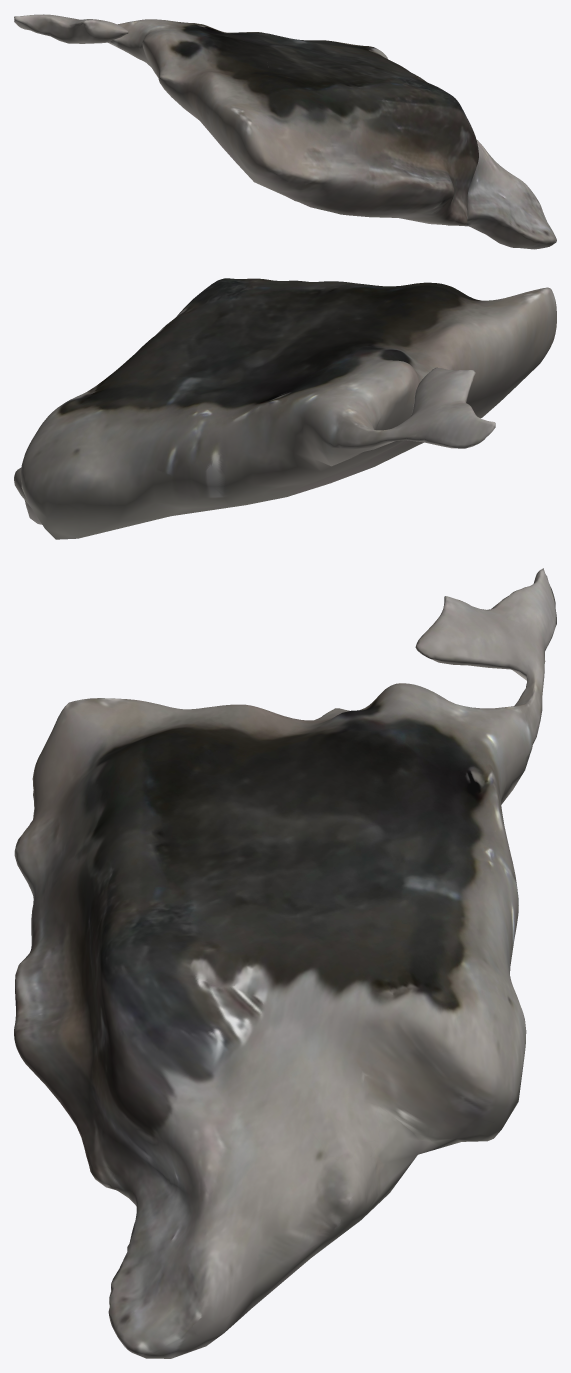
The picture shows the model from 3 angles, top to bottom: view 1: azimuth 30°, elevation 25°; view 2: azimuth 150°, elevation 25°; view 3: azimuth 270°, elevation 25°; orthographic projection. The views are drawn at different scales.
Bounding box in the file's own units: 0.2565 × 0.1455 × 0.1615.
Materials: 1 (1 with a texture image).
